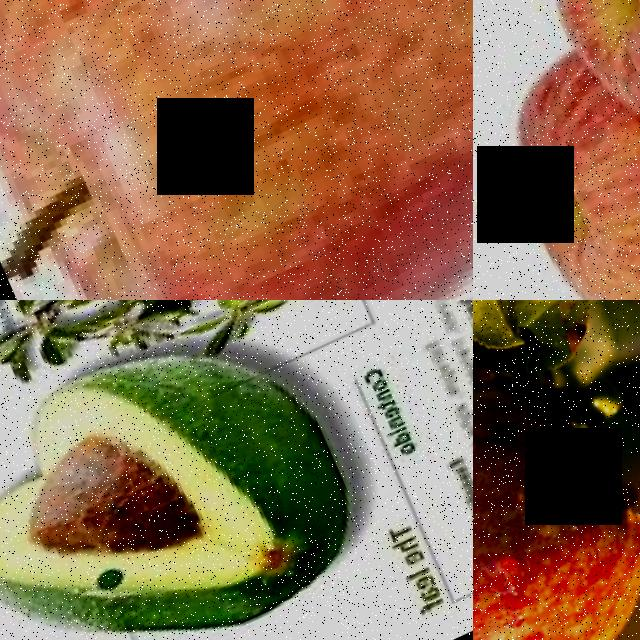apple: (0, 0, 473, 300), (473, 326, 640, 640), (473, 42, 640, 300), (502, 0, 640, 164)
avocado: (0, 300, 398, 640)
